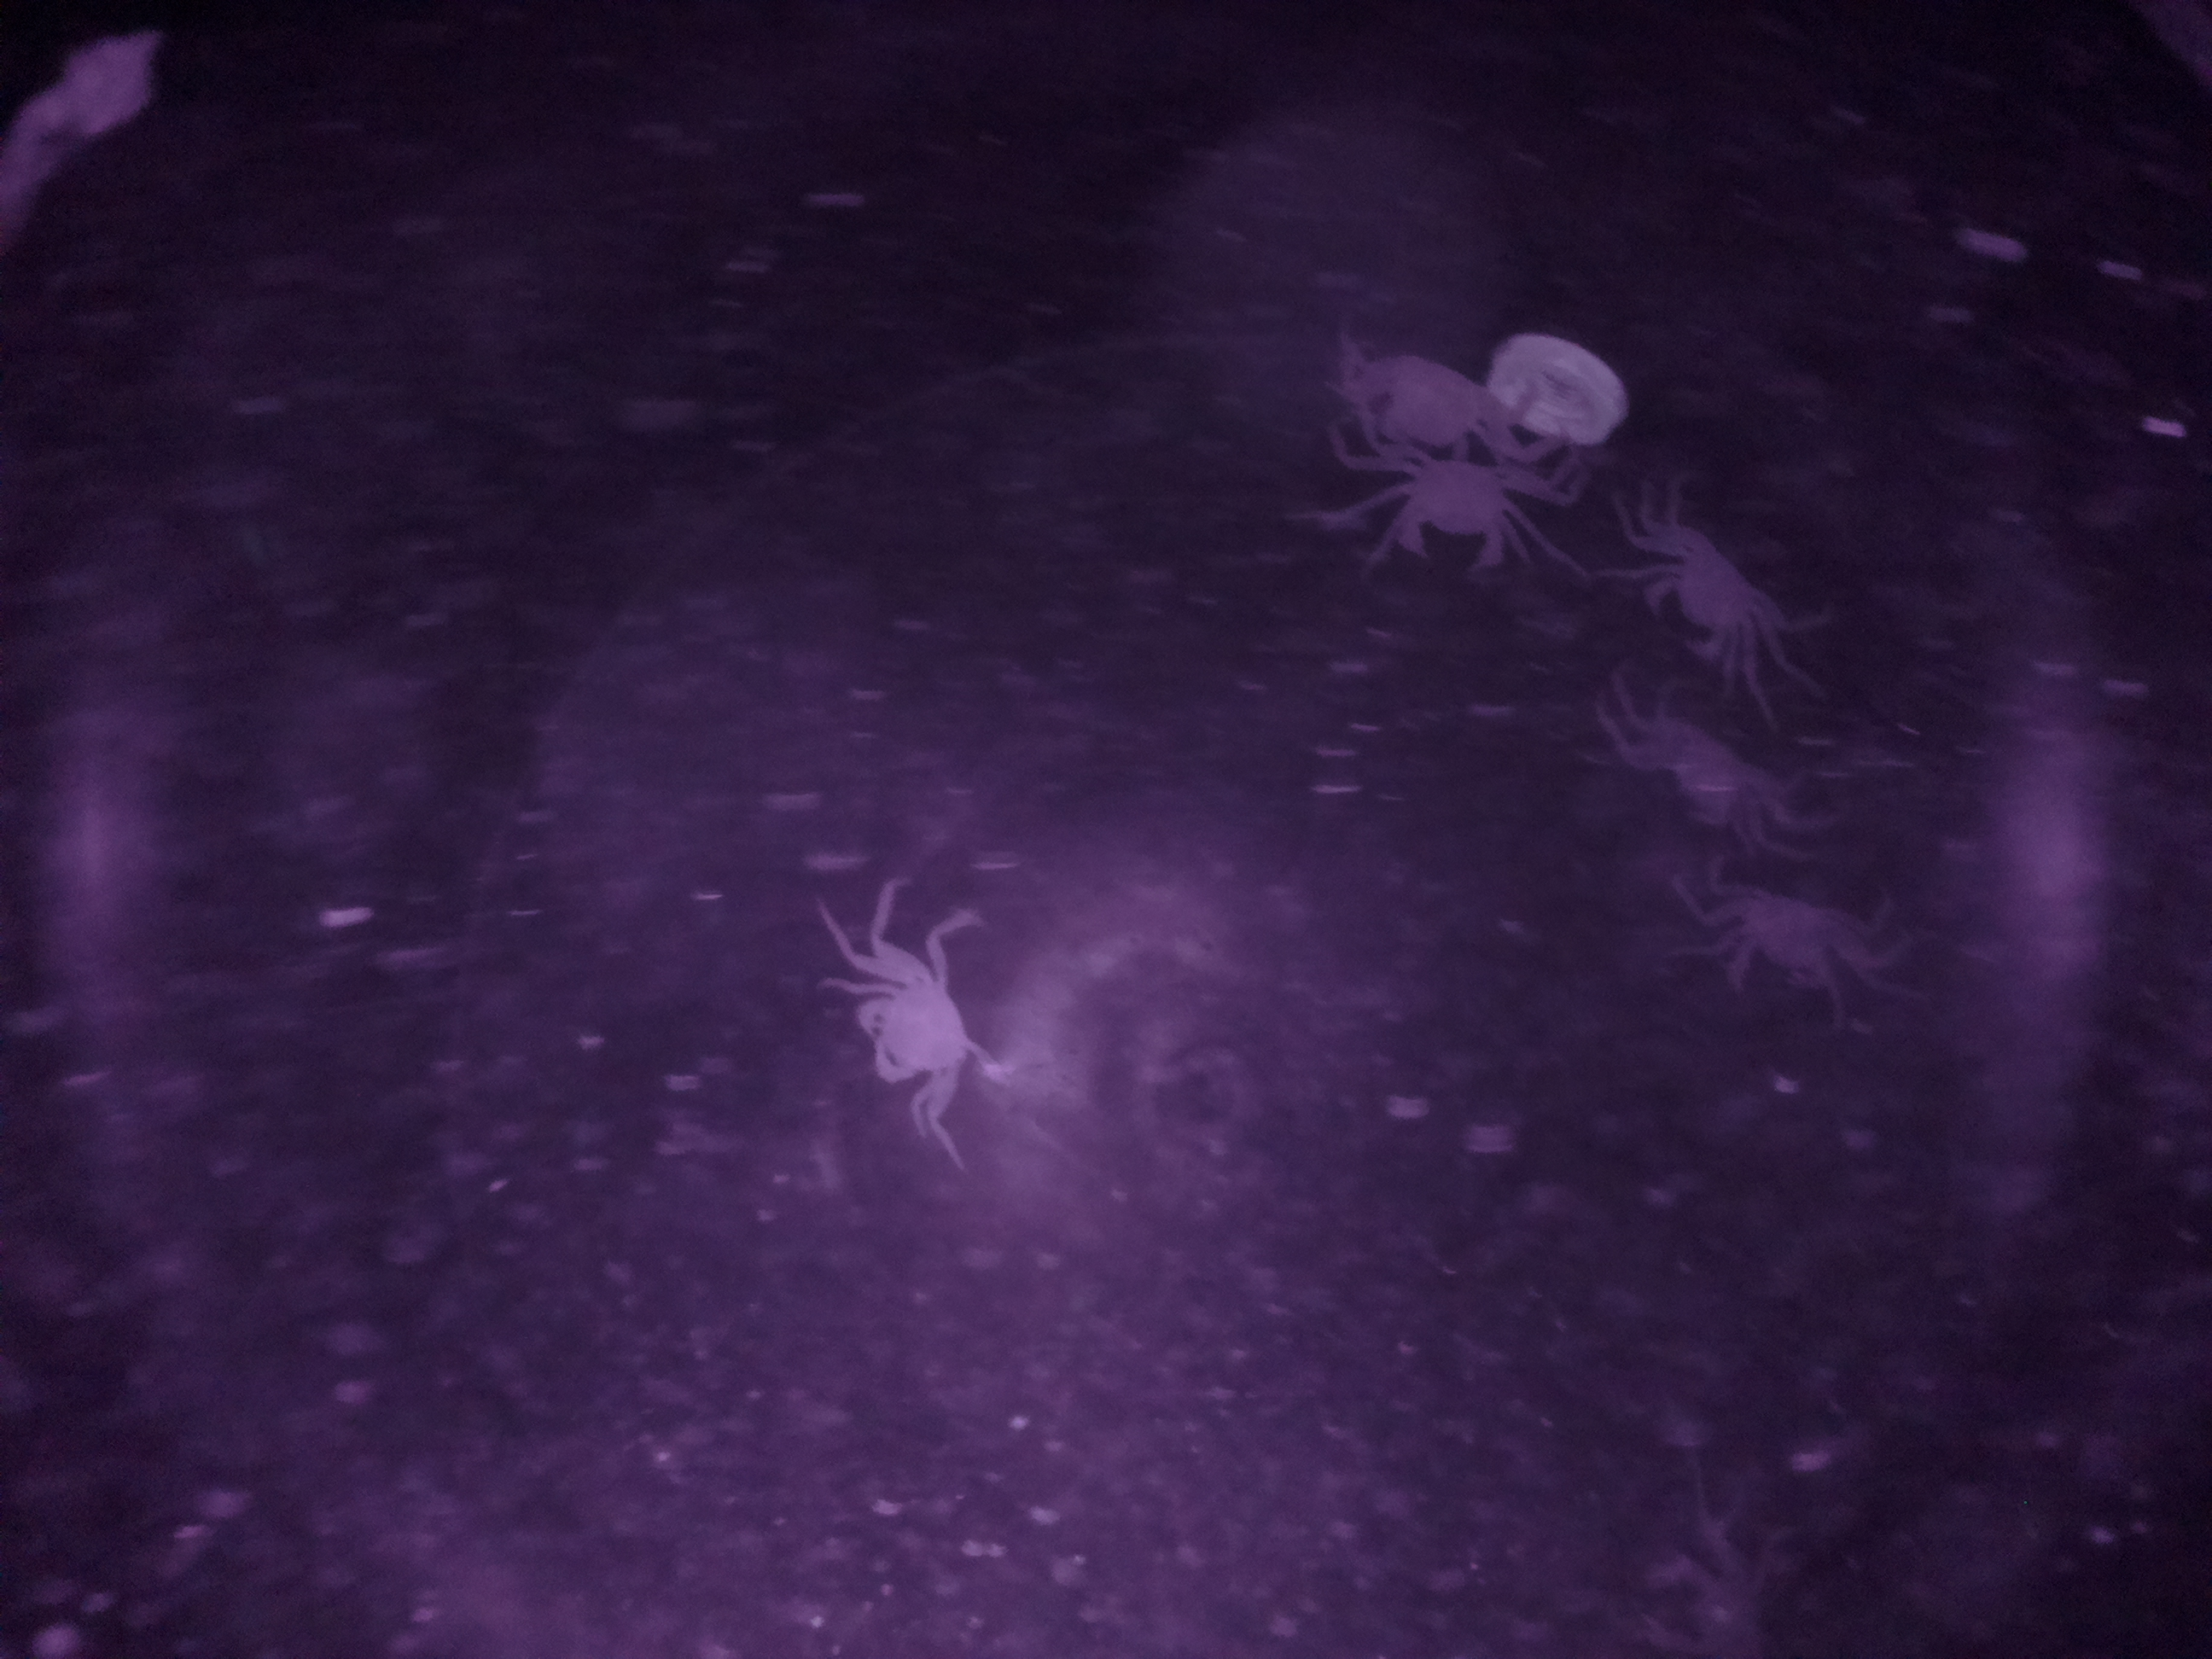Crab: (820, 904, 991, 1136), (1672, 847, 1883, 1012), (1615, 516, 1792, 692)
